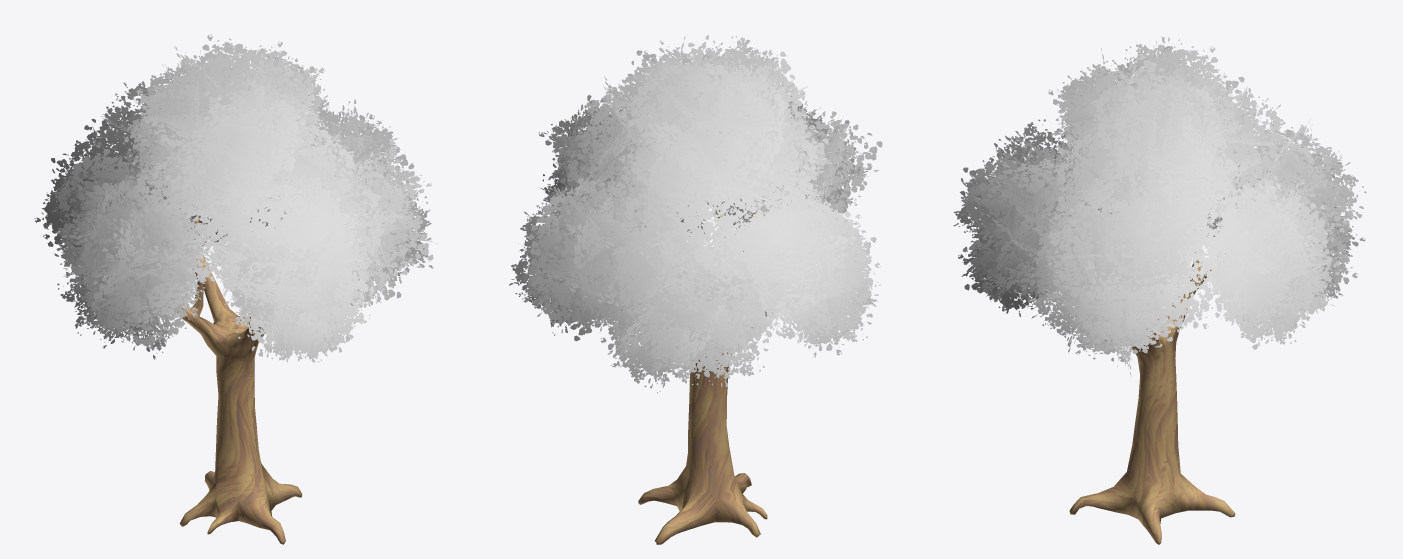
File: SM_ENV_tree_ancient_02.fbx
3 views of the same model, side by side, from view 1: azimuth 30°, elevation 25°; view 2: azimuth 150°, elevation 25°; view 3: azimuth 270°, elevation 25° (orthographic). The views are drawn at different scales.
Parts seen in each view (by area): view 1: SM_ENV_tree_ancient_02_LOD0; view 2: SM_ENV_tree_ancient_02_LOD0; view 3: SM_ENV_tree_ancient_02_LOD0.
Boxes of the visible parts, x1,y1,x2,y2 form: SM_ENV_tree_ancient_02_LOD0: (34, 34, 436, 544); SM_ENV_tree_ancient_02_LOD0: (509, 35, 882, 544); SM_ENV_tree_ancient_02_LOD0: (953, 36, 1366, 544).
Size of what is drawn, in the model's own units: 947 by 1174 by 1011.
